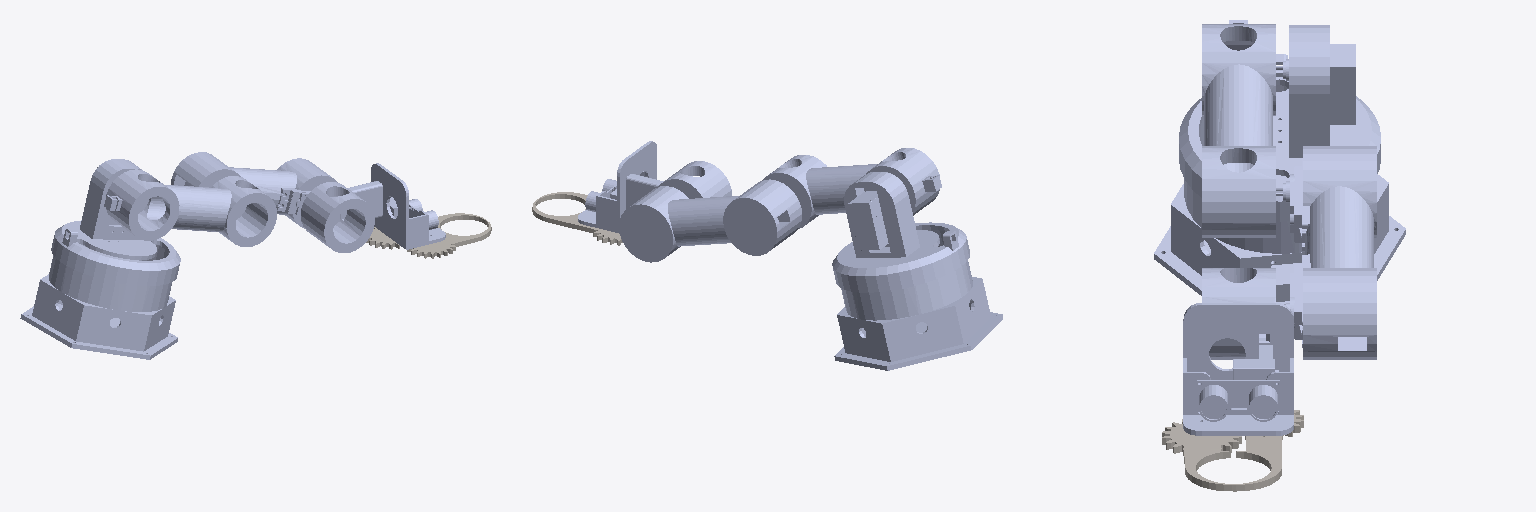
robot.urdf — urdfmulyono2:
<?xml version="1.0" encoding="utf-8"?>
<!-- This URDF was automatically created by SolidWorks to URDF Exporter! Originally created by [author] ([email redacted]) 
     Commit Version: 1.6.0-4-g7f85cfe  Build Version: 1.6.7995.38578
     For more information, please see http://wiki.ros.org/sw_urdf_exporter -->
<robot
  name="urdfmulyono2">
  <link
    name="base_link">
    <inertial>
      <origin
        xyz="0.00756476603280381 -0.000309862305232422 0.0334652073753209"
        rpy="0 0 0" />
      <mass
        value="0.15690853286764" />
      <inertia
        ixx="0.00024270023773439"
        ixy="1.43487900923189E-06"
        ixz="2.68005777453201E-05"
        iyy="0.000229112300024644"
        iyz="-2.57497877344068E-07"
        izz="0.000349560968509088" />
    </inertial>
    <visual>
      <origin
        xyz="0 0 0"
        rpy="0 0 0" />
      <geometry>
        <mesh
          filename="package://urdfmulyono2/meshes/base_link.STL" />
      </geometry>
      <material
        name="">
        <color
          rgba="0.792156862745098 0.819607843137255 0.933333333333333 1" />
      </material>
    </visual>
    <collision>
      <origin
        xyz="0 0 0"
        rpy="0 0 0" />
      <geometry>
        <mesh
          filename="package://urdfmulyono2/meshes/base_link.STL" />
      </geometry>
    </collision>
  </link>
  <link
    name="link1">
    <inertial>
      <origin
        xyz="0.00419941432263702 0.0132973747425095 0.0181378686743086"
        rpy="0 0 0" />
      <mass
        value="0.110824441482646" />
      <inertia
        ixx="8.64131483908158E-05"
        ixy="-2.34656986561148E-06"
        ixz="3.75890813690963E-08"
        iyy="9.13032174368967E-05"
        iyz="-8.409909465176E-06"
        izz="8.7285416686309E-05" />
    </inertial>
    <visual>
      <origin
        xyz="0 0 0"
        rpy="0 0 0" />
      <geometry>
        <mesh
          filename="package://urdfmulyono2/meshes/link1.STL" />
      </geometry>
      <material
        name="">
        <color
          rgba="0.792156862745098 0.819607843137255 0.933333333333333 1" />
      </material>
    </visual>
    <collision>
      <origin
        xyz="0 0 0"
        rpy="0 0 0" />
      <geometry>
        <mesh
          filename="package://urdfmulyono2/meshes/link1.STL" />
      </geometry>
    </collision>
  </link>
  <joint
    name="joint1"
    type="revolute">
    <origin
      xyz="0.019569 0 0.078601"
      rpy="0 0 0" />
    <parent
      link="base_link" />
    <child
      link="link1" />
    <axis
      xyz="-0.24159 0 -0.97038" />
    <limit
      lower="-3.14"
      upper="3.14"
      effort="1.08"
      velocity="7.48" />
  </joint>
  <link
    name="link2">
    <inertial>
      <origin
        xyz="0.0472710783861008 0.0212736067585221 0.0149802919244096"
        rpy="0 0 0" />
      <mass
        value="0.120061916446764" />
      <inertia
        ixx="6.01492636200852E-05"
        ixy="8.5435973549304E-08"
        ixz="-6.49878022807127E-05"
        iyy="0.000284291366313915"
        iyz="-1.12331853824027E-07"
        izz="0.00026060771093869" />
    </inertial>
    <visual>
      <origin
        xyz="0 0 0"
        rpy="0 0 0" />
      <geometry>
        <mesh
          filename="package://urdfmulyono2/meshes/link2.STL" />
      </geometry>
      <material
        name="">
        <color
          rgba="0.792156862745098 0.819607843137255 0.933333333333333 1" />
      </material>
    </visual>
    <collision>
      <origin
        xyz="0 0 0"
        rpy="0 0 0" />
      <geometry>
        <mesh
          filename="package://urdfmulyono2/meshes/link2.STL" />
      </geometry>
    </collision>
  </link>
  <joint
    name="joint2"
    type="revolute">
    <origin
      xyz="0.010128 0 0.040992"
      rpy="3.1416 0 0" />
    <parent
      link="link1" />
    <child
      link="link2" />
    <axis
      xyz="0 -1 0" />
    <limit
      lower="-3.14"
      upper="3.14"
      effort="1.08"
      velocity="7.48" />
  </joint>
  <link
    name="link3">
    <inertial>
      <origin
        xyz="0.0480022504467803 0.0301358791811468 -0.0140106329104376"
        rpy="0 0 0" />
      <mass
        value="0.207694596876171" />
      <inertia
        ixx="7.82315010140653E-05"
        ixy="3.4613437808387E-13"
        ixz="7.76667734419024E-05"
        iyy="0.000347203357163827"
        iyz="-8.04709112702073E-12"
        izz="0.000319524558665578" />
    </inertial>
    <visual>
      <origin
        xyz="0 0 0"
        rpy="0 0 0" />
      <geometry>
        <mesh
          filename="package://urdfmulyono2/meshes/link3.STL" />
      </geometry>
      <material
        name="">
        <color
          rgba="0.792156862745098 0.819607843137255 0.933333333333333 1" />
      </material>
    </visual>
    <collision>
      <origin
        xyz="0 0 0"
        rpy="0 0 0" />
      <geometry>
        <mesh
          filename="package://urdfmulyono2/meshes/link3.STL" />
      </geometry>
    </collision>
  </link>
  <joint
    name="joint3"
    type="revolute">
    <origin
      xyz="0.0958979634215286 0 0.0283474974485566"
      rpy="-3.14159265358979 0 0" />
    <parent
      link="link2" />
    <child
      link="link3" />
    <axis
      xyz="0 1 0" />
    <limit
      lower="-3.14"
      upper="3.14"
      effort="1.08"
      velocity="7.48" />
  </joint>
  <link
    name="link4">
    <inertial>
      <origin
        xyz="0.026740407589292 -0.0205881230755004 -0.00631001616389368"
        rpy="0 0 0" />
      <mass
        value="0.0812195344241374" />
      <inertia
        ixx="3.43654366689956E-05"
        ixy="6.33135180272933E-07"
        ixz="1.14852117721729E-05"
        iyy="8.40003828624413E-05"
        iyz="-4.33154536119463E-07"
        izz="8.22059745913665E-05" />
    </inertial>
    <visual>
      <origin
        xyz="0 0 0"
        rpy="0 0 0" />
      <geometry>
        <mesh
          filename="package://urdfmulyono2/meshes/link4.STL" />
      </geometry>
      <material
        name="">
        <color
          rgba="0.792156862745098 0.819607843137255 0.933333333333333 1" />
      </material>
    </visual>
    <collision>
      <origin
        xyz="0 0 0"
        rpy="0 0 0" />
      <geometry>
        <mesh
          filename="package://urdfmulyono2/meshes/link4.STL" />
      </geometry>
    </collision>
  </link>
  <joint
    name="joint4"
    type="revolute">
    <origin
      xyz="0.0960044200802912 0 -0.0280212972529908"
      rpy="0 0 0" />
    <parent
      link="link3" />
    <child
      link="link4" />
    <axis
      xyz="0 1 0" />
    <limit
      lower="-3.14"
      upper="3.14"
      effort="1.08"
      velocity="7.48" />
  </joint>
  <link
    name="gripmotor">
    <inertial>
      <origin
        xyz="0.0172142651699618 -0.000492393644018556 -0.00194711687312925"
        rpy="0 0 0" />
      <mass
        value="0.00764762460244494" />
      <inertia
        ixx="6.07668026402804E-07"
        ixy="1.36835878621437E-07"
        ixz="2.95649143015407E-09"
        iyy="4.81380456982479E-06"
        iyz="-1.95661212929439E-10"
        izz="5.40112170569912E-06" />
    </inertial>
    <visual>
      <origin
        xyz="0 0 0"
        rpy="0 0 0" />
      <geometry>
        <mesh
          filename="package://urdfmulyono2/meshes/gripmotor.STL" />
      </geometry>
      <material
        name="">
        <color
          rgba="0.776470588235294 0.756862745098039 0.737254901960784 1" />
      </material>
    </visual>
    <collision>
      <origin
        xyz="0 0 0"
        rpy="0 0 0" />
      <geometry>
        <mesh
          filename="package://urdfmulyono2/meshes/gripmotor.STL" />
      </geometry>
    </collision>
  </link>
  <joint
    name="gripmotor"
    type="revolute">
    <origin
      xyz="0.0589999999999989 -0.00871000000003669 -0.0390000000000594"
      rpy="3.14159265358979 0 0" />
    <parent
      link="link4" />
    <child
      link="gripmotor" />
    <axis
      xyz="-9.10165302446531E-05 0 0.999999995857995" />
    <limit
      lower="-3.14"
      upper="3.14"
      effort="0.21575"
      velocity="10.47" />
  </joint>
  <link
    name="end">
    <inertial>
      <origin
        xyz="-0.0685003322842926 -0.0172679795727905 -0.00194711687312928"
        rpy="0 0 0" />
      <mass
        value="0.00764762460244494" />
      <inertia
        ixx="6.07668026402805E-07"
        ixy="1.36835878621437E-07"
        ixz="2.95649143015356E-09"
        iyy="4.81380456982479E-06"
        iyz="-1.95661212929595E-10"
        izz="5.40112170569913E-06" />
    </inertial>
    <visual>
      <origin
        xyz="0 0 0"
        rpy="0 0 0" />
      <geometry>
        <mesh
          filename="package://urdfmulyono2/meshes/end.STL" />
      </geometry>
      <material
        name="">
        <color
          rgba="0.776470588235294 0.756862745098039 0.737254901960784 1" />
      </material>
    </visual>
    <collision>
      <origin
        xyz="0 0 0"
        rpy="0 0 0" />
      <geometry>
        <mesh
          filename="package://urdfmulyono2/meshes/end.STL" />
      </geometry>
    </collision>
  </link>
  <joint
    name="end"
    type="fixed">
    <origin
      xyz="0.0857145974542544 0.016775585928772 0"
      rpy="0 0 0" />
    <parent
      link="gripmotor" />
    <child
      link="end" />
    <axis
      xyz="0 0 0" />
  </joint>
  <link
    name="gripikut">
    <inertial>
      <origin
        xyz="0.00859883392373223 0.000396961191712862 -0.00200000000005934"
        rpy="0 0 0" />
      <mass
        value="0.00641643405685645" />
      <inertia
        ixx="5.49644310171951E-07"
        ixy="-5.53702501286623E-08"
        ixz="-2.24993126614424E-22"
        iyy="2.24458857323514E-06"
        iyz="2.04981747826519E-23"
        izz="2.77712239258881E-06" />
    </inertial>
    <visual>
      <origin
        xyz="0 0 0"
        rpy="0 0 0" />
      <geometry>
        <mesh
          filename="package://urdfmulyono2/meshes/gripikut.STL" />
      </geometry>
      <material
        name="">
        <color
          rgba="0.776470588235294 0.756862745098039 0.737254901960784 1" />
      </material>
    </visual>
    <collision>
      <origin
        xyz="0 0 0"
        rpy="0 0 0" />
      <geometry>
        <mesh
          filename="package://urdfmulyono2/meshes/gripikut.STL" />
      </geometry>
    </collision>
  </link>
  <joint
    name="gripikut"
    type="revolute">
    <origin
      xyz="0.080000000000009 -0.042409999999936 -0.0390000000000594"
      rpy="3.14159265358979 0 0" />
    <parent
      link="link4" />
    <child
      link="gripikut" />
    <axis
      xyz="9.10165302432653E-05 0 -0.999999995857995" />
    <limit
      lower="-3.14"
      upper="3.14"
      effort="0.21575"
      velocity="10.47" />
  </joint>
  <link
    name="end2">
    <inertial>
      <origin
        xyz="-0.0560537215107497 0.0185344796489774 -0.00200000000005951"
        rpy="0 0 0" />
      <mass
        value="0.00641643405685645" />
      <inertia
        ixx="5.49644310171951E-07"
        ixy="-5.53702501286623E-08"
        ixz="-5.55865371635635E-22"
        iyy="2.24458857323514E-06"
        iyz="1.88438135575455E-23"
        izz="2.77712239258881E-06" />
    </inertial>
    <visual>
      <origin
        xyz="0 0 0"
        rpy="0 0 0" />
      <geometry>
        <mesh
          filename="package://urdfmulyono2/meshes/end2.STL" />
      </geometry>
      <material
        name="">
        <color
          rgba="0.776470588235294 0.756862745098039 0.737254901960784 1" />
      </material>
    </visual>
    <collision>
      <origin
        xyz="0 0 0"
        rpy="0 0 0" />
      <geometry>
        <mesh
          filename="package://urdfmulyono2/meshes/end2.STL" />
      </geometry>
    </collision>
  </link>
  <joint
    name="end2"
    type="fixed">
    <origin
      xyz="0.0646525554344819 -0.0181375184572645 0"
      rpy="0 0 0" />
    <parent
      link="gripikut" />
    <child
      link="end2" />
    <axis
      xyz="0 0 0" />
  </joint>
</robot>

--- Render facts (derived) ---
The picture shows the robot from 3 angles, left to right: view 1: azimuth 30°, elevation 25°; view 2: azimuth 150°, elevation 25°; view 3: azimuth 270°, elevation 25°; orthographic projection.
Robot: urdfmulyono2 — 9 links, 8 joints (6 revolute, 2 fixed); root link base_link; default pose: every joint at zero.
Visible links, largest first — view 1: base_link, link2, link4, link1, link3, gripikut, gripmotor; view 2: base_link, link1, link3, link2, link4, gripmotor; view 3: link3, link4, link2, link1, base_link, gripikut, gripmotor.
Link boxes in pixels (left/top/right/bottom): base_link: left=20, top=244, right=177, bottom=359; link2: left=104, top=169, right=276, bottom=246; link4: left=301, top=163, right=445, bottom=252; link1: left=51, top=159, right=180, bottom=285; link3: left=171, top=152, right=337, bottom=228; gripikut: left=407, top=220, right=491, bottom=258; gripmotor: left=366, top=213, right=485, bottom=249; base_link: left=834, top=230, right=1002, bottom=370; link1: left=832, top=172, right=969, bottom=292; link3: left=619, top=179, right=801, bottom=262; link2: left=762, top=148, right=941, bottom=228; link4: left=578, top=141, right=731, bottom=233; gripmotor: left=533, top=199, right=622, bottom=245; link3: left=1276, top=146, right=1376, bottom=359; link4: left=1183, top=268, right=1293, bottom=435; link2: left=1202, top=20, right=1275, bottom=237; link1: left=1179, top=25, right=1380, bottom=221; base_link: left=1154, top=85, right=1405, bottom=303; gripikut: left=1162, top=419, right=1241, bottom=490; gripmotor: left=1233, top=410, right=1303, bottom=491.
Size in the robot's own frame: 0.429 by 0.1369 by 0.1602 metres.
9 mesh visuals loaded from 9 distinct referenced files (9 binary STL).
